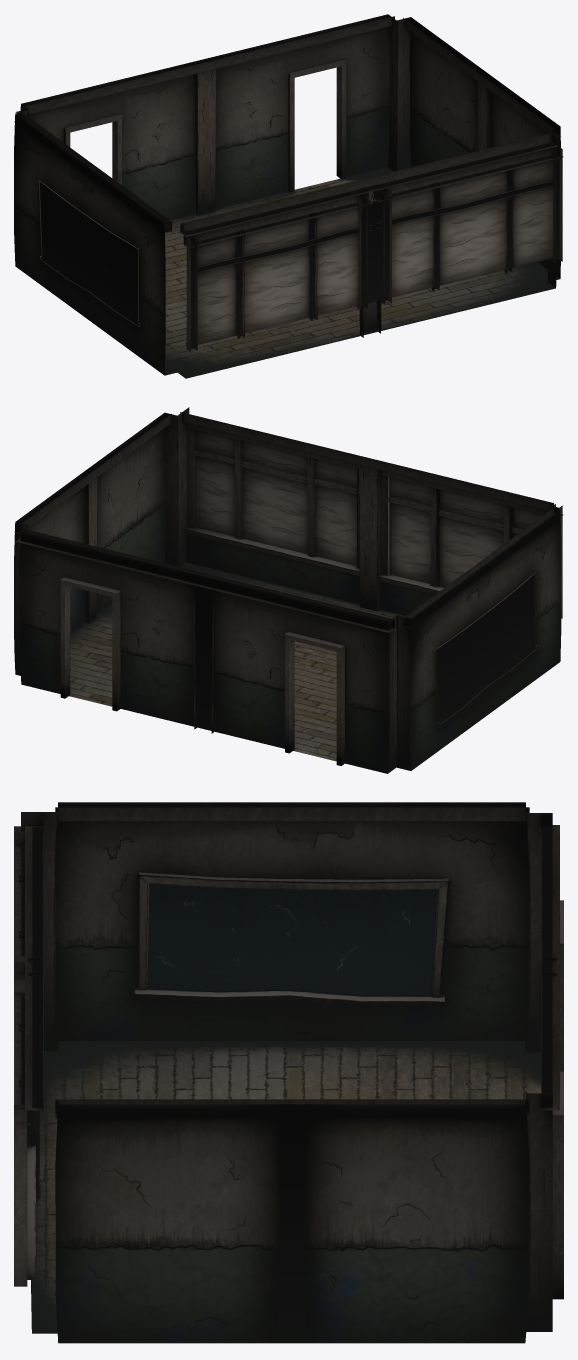
Rendered from Classroom (1).fbx.
3 renders of one model, top to bottom at view 1: azimuth 30°, elevation 25°; view 2: azimuth 150°, elevation 25°; view 3: azimuth 270°, elevation 25°, orthographic. The views are drawn at different scales.
Visible parts, largest first — view 1: Room12_low, Room14_low, Room13_low, Room5_low, Room9_low, Room7_low, Room11_low, Room10_low, Room4_low, Room3_low, Room8_low, Room6_low (+1 smaller); view 2: Room13_low, Room12_low, Room14_low, Room1_low, Room5_low, Room11_low, Room7_low, Room4_low, Room3_low, Room10_low, Room8_low, Room9_low (+2 smaller); view 3: Room12_low, Room2_low, Room5_low, Room4_low, Room13_low, Room1_low, Room10_low, Room11_low, Room9_low, Room7_low.
Part boxes in pixels (<box>): Room12_low: <box>14,17,560,378</box>; Room14_low: <box>191,158,559,346</box>; Room13_low: <box>15,14,410,220</box>; Room5_low: <box>15,16,557,236</box>; Room9_low: <box>183,144,563,248</box>; Room7_low: <box>194,69,382,337</box>; Room11_low: <box>64,59,346,192</box>; Room10_low: <box>186,146,562,352</box>; Room4_low: <box>14,18,560,232</box>; Room3_low: <box>237,165,513,338</box>; Room8_low: <box>191,179,559,274</box>; Room6_low: <box>478,82,489,150</box>; Room13_low: <box>14,522,410,773</box>; Room12_low: <box>15,413,561,770</box>; Room14_low: <box>195,429,543,587</box>; Room1_low: <box>164,407,559,615</box>; Room5_low: <box>15,412,559,632</box>; Room11_low: <box>60,577,344,765</box>; Room7_low: <box>193,465,381,733</box>; Room4_low: <box>14,414,554,628</box>; Room3_low: <box>234,439,510,586</box>; Room10_low: <box>187,427,562,618</box>; Room8_low: <box>194,449,523,533</box>; Room9_low: <box>186,422,563,516</box>; Room12_low: <box>32,802,541,1343</box>; Room2_low: <box>133,872,448,1006</box>; Room5_low: <box>25,825,559,1110</box>; Room4_low: <box>55,807,529,1118</box>; Room13_low: <box>525,812,552,1331</box>; Room1_low: <box>21,812,58,1328</box>; Room10_low: <box>14,826,27,1286</box>; Room11_low: <box>552,900,563,1299</box>; Room9_low: <box>15,845,30,1124</box>; Room7_low: <box>27,958,557,1198</box>.
Bounding box in the file's own units: 572 × 212 × 439.
1 material, 1 textured.
